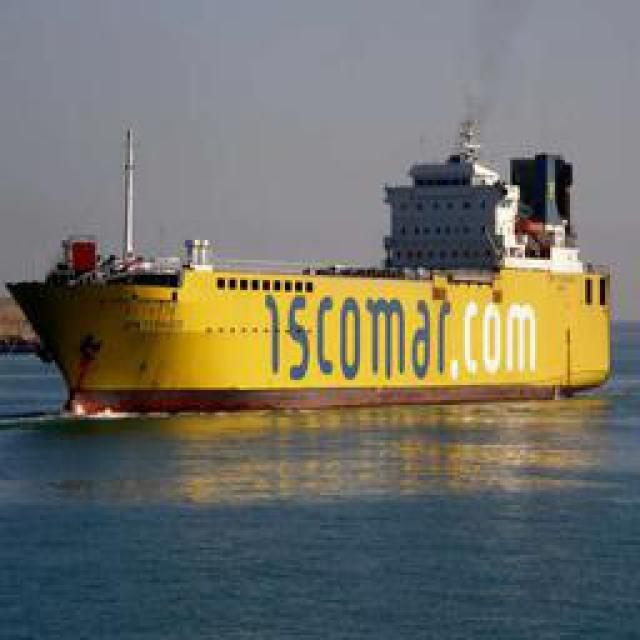Ship: (12, 247, 625, 417)
